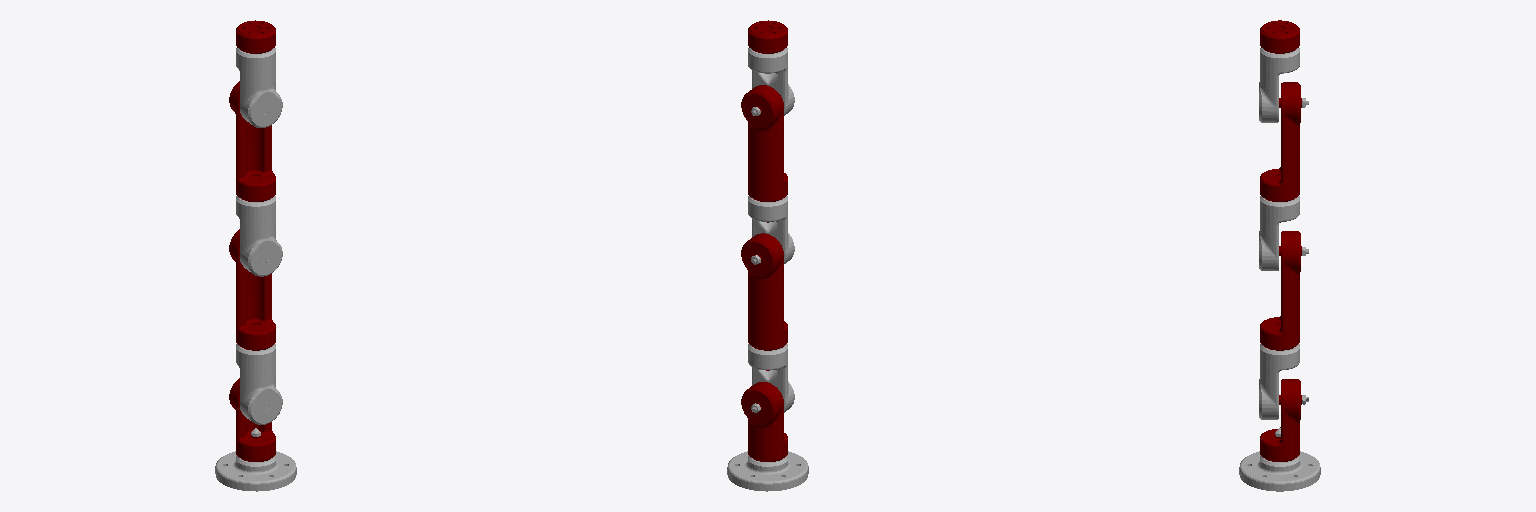
robot.urdf — ManipulatorUrdf:
<?xml version="1.0" encoding="utf-8"?>
<!-- This URDF was automatically created by SolidWorks to URDF Exporter! Originally created by [author] ([email redacted]) 
     Commit Version: 1.6.0-4-g7f85cfe  Build Version: 1.6.7995.38578
     For more information, please see http://wiki.ros.org/sw_urdf_exporter -->
<robot
  name="ManipulatorUrdf">
  <material name="maroon">
    <color rgba="0.5 0.0 0.0 1.0"/>
  </material>
  <material name="grey">
    <color rgba="0.7 0.7 0.7 1.0"/>
  </material>
  <link
    name="base_link">
    <inertial>
      <origin
        xyz="-1.22557526943779E-08 1.22018958084312E-08 0.0092810773127755"
        rpy="0 0 0" />
      <mass
        value="0.128593564789838" />
      <inertia
        ixx="7.45536846359304E-05"
        ixy="6.46650347197829E-13"
        ixz="-5.32544392988639E-12"
        iyy="7.45536877822406E-05"
        iyz="-6.57767819984515E-11"
        izz="0.000137966503510752" />
    </inertial>
    <visual>
      <origin
        xyz="0 0 0"
        rpy="0 0 0" />
      <geometry>
        <mesh
          filename="package://ManipulatorUrdf/meshes/base_link.STL" />
      </geometry>
      <material
        name="grey">
      </material>
    </visual>
    <collision>
      <origin
        xyz="0 0 0"
        rpy="0 0 0" />
      <geometry>
        <mesh
          filename="package://ManipulatorUrdf/meshes/base_link.STL" />
      </geometry>
    </collision>
  </link>
  <link
    name="link1">
    <inertial>
      <origin
        xyz="-1.85892788255806E-08 0.00775841135748858 -0.0323463053242845"
        rpy="0 0 0" />
      <mass
        value="0.123121051172828" />
      <inertia
        ixx="0.000126849219231024"
        ixy="-6.45135493896353E-12"
        ixz="5.33608551744657E-11"
        iyy="0.000131362281302474"
        iyz="-2.00145092206431E-05"
        izz="3.73736976606538E-05" />
    </inertial>
    <visual>
      <origin
        xyz="0 0 0"
        rpy="0 0 0" />
      <geometry>
        <mesh
          filename="package://ManipulatorUrdf/meshes/link1.STL" />
      </geometry>
      <material
        name="maroon">
      </material>
    </visual>
    <collision>
      <origin
        xyz="0 0 0"
        rpy="0 0 0" />
      <geometry>
        <mesh
          filename="package://ManipulatorUrdf/meshes/link1.STL" />
      </geometry>
    </collision>
  </link>
  <joint
    name="joint1"
    type="revolute">
    <origin
      xyz="0 0 0.10319"
      rpy="0 0 0" />
    <parent
      link="base_link" />
    <child
      link="link1" />
    <axis
      xyz="0 0 1" />
    <limit
      effort="100"
      velocity="100" />
  </joint>
  <link
    name="link2">
    <inertial>
      <origin
        xyz="-1.68476417454727E-08 0.0317343543085794 0.00745949851290703"
        rpy="0 0 0" />
      <mass
        value="0.125495294944391" />
      <inertia
        ixx="0.000128102613852571"
        ixy="-5.22874941598043E-11"
        ixz="2.33703270569435E-11"
        iyy="3.80907213341547E-05"
        iyz="1.996738147207E-05"
        izz="0.000131914555403081" />
    </inertial>
    <visual>
      <origin
        xyz="0 0 0"
        rpy="0 0 0" />
      <geometry>
        <mesh
          filename="package://ManipulatorUrdf/meshes/link2.STL" />
      </geometry>
      <material
        name="grey">
      </material>
    </visual>
    <collision>
      <origin
        xyz="0 0 0"
        rpy="0 0 0" />
      <geometry>
        <mesh
          filename="package://ManipulatorUrdf/meshes/link2.STL" />
      </geometry>
    </collision>
  </link>
  <joint
    name="joint2"
    type="revolute">
    <origin
      xyz="0 0 0"
      rpy="1.5708 0 0" />
    <parent
      link="link1" />
    <child
      link="link2" />
    <axis
      xyz="0 0 -1" />
    <limit
      effort="100"
      velocity="100" />
  </joint>
  <link
    name="link3">
    <inertial>
      <origin
        xyz="-1.23437792442106E-08 0.00885187226136737 -0.0593498418344666"
        rpy="0 0 0" />
      <mass
        value="0.162649767092968" />
      <inertia
        ixx="0.000384901372328097"
        ixy="4.07977785051178E-13"
        ixz="-6.61204349892496E-11"
        iyy="0.000394315089859218"
        iyz="-3.59136506465118E-05"
        izz="4.68839643301925E-05" />
    </inertial>
    <visual>
      <origin
        xyz="0 0 0"
        rpy="0 0 0" />
      <geometry>
        <mesh
          filename="package://ManipulatorUrdf/meshes/link3.STL" />
      </geometry>
      <material
        name="maroon">
      </material>
    </visual>
    <collision>
      <origin
        xyz="0 0 0"
        rpy="0 0 0" />
      <geometry>
        <mesh
          filename="package://ManipulatorUrdf/meshes/link3.STL" />
      </geometry>
    </collision>
  </link>
  <joint
    name="joint3"
    type="revolute">
    <origin
      xyz="0 0.20479 0"
      rpy="-1.5708 0 0" />
    <parent
      link="link2" />
    <child
      link="link3" />
    <axis
      xyz="0 0 1" />
    <limit
      effort="100"
      velocity="100" />
  </joint>
  <link
    name="link4">
    <inertial>
      <origin
        xyz="-2.23906566844437E-08 0.0317343152974587 0.00745949851290702"
        rpy="0 0 0" />
      <mass
        value="0.125495294944391" />
      <inertia
        ixx="0.000128102613982611"
        ixy="-5.19540681069413E-11"
        ixz="-4.06975266434054E-11"
        iyy="3.80907212041146E-05"
        iyz="1.99672577369089E-05"
        izz="0.00013191455540308" />
    </inertial>
    <visual>
      <origin
        xyz="0 0 0"
        rpy="0 0 0" />
      <geometry>
        <mesh
          filename="package://ManipulatorUrdf/meshes/link4.STL" />
      </geometry>
      <material
        name="grey">
      </material>
    </visual>
    <collision>
      <origin
        xyz="0 0 0"
        rpy="0 0 0" />
      <geometry>
        <mesh
          filename="package://ManipulatorUrdf/meshes/link4.STL" />
      </geometry>
    </collision>
  </link>
  <joint
    name="joint4"
    type="revolute">
    <origin
      xyz="0 0 0"
      rpy="1.5707963267949 0 0" />
    <parent
      link="link3" />
    <child
      link="link4" />
    <axis
      xyz="0 0 -1" />
    <limit
      effort="100"
      velocity="100" />
  </joint>
  <link
    name="link5">
    <inertial>
      <origin
        xyz="-1.47136134657301E-09 0.00885185273884695 -0.059349841825483"
        rpy="0 0 0" />
      <mass
        value="0.162649767077565" />
      <inertia
        ixx="0.000384901369108547"
        ixy="5.87523367619801E-13"
        ixz="-3.11948432407316E-11"
        iyy="0.000394315093078619"
        iyz="-3.59137084063457E-05"
        izz="4.68839643301035E-05" />
    </inertial>
    <visual>
      <origin
        xyz="0 0 0"
        rpy="0 0 0" />
      <geometry>
        <mesh
          filename="package://ManipulatorUrdf/meshes/link5.STL" />
      </geometry>
      <material
        name="maroon">
      </material>
    </visual>
    <collision>
      <origin
        xyz="0 0 0"
        rpy="0 0 0" />
      <geometry>
        <mesh
          filename="package://ManipulatorUrdf/meshes/link5.STL" />
      </geometry>
    </collision>
  </link>
  <joint
    name="joint5"
    type="revolute">
    <origin
      xyz="0 0.2047875 0"
      rpy="-1.5707963267949 0 0" />
    <parent
      link="link4" />
    <child
      link="link5" />
    <axis
      xyz="0 0 1" />
    <limit
      effort="100"
      velocity="100" />
  </joint>
  <link
    name="link6">
    <inertial>
      <origin
        xyz="8.84933874689691E-10 0.0317343149617446 0.00745949851290702"
        rpy="0 0 0" />
      <mass
        value="0.125495294944391" />
      <inertia
        ixx="0.000128102615380365"
        ixy="-5.46457686054436E-11"
        ixz="2.70800504357616E-11"
        iyy="3.80907198063605E-05"
        iyz="1.99672602664282E-05"
        izz="0.000131914555403081" />
    </inertial>
    <visual>
      <origin
        xyz="0 0 0"
        rpy="0 0 0" />
      <geometry>
        <mesh
          filename="package://ManipulatorUrdf/meshes/link6.STL" />
      </geometry>
      <material
        name="grey">
      </material>
    </visual>
    <collision>
      <origin
        xyz="0 0 0"
        rpy="0 0 0" />
      <geometry>
        <mesh
          filename="package://ManipulatorUrdf/meshes/link6.STL" />
      </geometry>
    </collision>
  </link>
  <joint
    name="joint6"
    type="revolute">
    <origin
      xyz="0 0 0"
      rpy="1.5707963267949 0 0" />
    <parent
      link="link5" />
    <child
      link="link6" />
    <axis
      xyz="0 0 -1" />
    <limit
      effort="100"
      velocity="100" />
  </joint>
  <link
    name="link7">
    <inertial>
      <origin
        xyz="5.87774322886357E-08 5.34790418483191E-09 -0.0133863430450704"
        rpy="0 0 0" />
      <mass
        value="0.0477760977622199" />
      <inertia
        ixx="1.03742535103201E-05"
        ixy="-1.05535573516503E-12"
        ixz="6.27195878369039E-11"
        iyy="1.03742502286753E-05"
        iyz="-3.28525526936077E-11"
        izz="1.48894457745127E-05" />
    </inertial>
    <visual>
      <origin
        xyz="0 0 0"
        rpy="0 0 0" />
      <geometry>
        <mesh
          filename="package://ManipulatorUrdf/meshes/link7.STL" />
      </geometry>
      <material
        name="maroon">
      </material>
    </visual>
    <collision>
      <origin
        xyz="0 0 0"
        rpy="0 0 0" />
      <geometry>
        <mesh
          filename="package://ManipulatorUrdf/meshes/link7.STL" />
      </geometry>
    </collision>
  </link>
  <joint
    name="joint7"
    type="revolute">
    <origin
      xyz="0 0.1031875 0"
      rpy="-1.5707963267949 0 0" />
    <parent
      link="link6" />
    <child
      link="link7" />
    <axis
      xyz="0 0 1" />
    <limit
      effort="100"
      velocity="100" />
  </joint>
</robot>

--- Render facts (derived) ---
3 views of the same robot in one strip: view 1: azimuth 30°, elevation 25°; view 2: azimuth 150°, elevation 25°; view 3: azimuth 270°, elevation 25° (orthographic).
Robot: ManipulatorUrdf — 8 links, 7 joints (7 revolute); root link base_link; default pose: every joint at zero.
Links seen in each view (by area): view 1: link5, link3, link4, link2, link6, base_link, link1, link7; view 2: link5, link3, link1, base_link, link4, link6, link2, link7; view 3: link5, link3, base_link, link1, link2, link6, link4, link7.
Link boxes in pixels (<box>): link5: <box>229,81,275,201</box>; link3: <box>229,229,275,350</box>; link4: <box>236,196,282,276</box>; link2: <box>236,344,282,424</box>; link6: <box>236,48,282,127</box>; base_link: <box>215,428,296,491</box>; link1: <box>229,378,275,461</box>; link7: <box>236,20,275,53</box>; link5: <box>741,85,787,222</box>; link3: <box>741,233,787,370</box>; link1: <box>741,382,787,461</box>; base_link: <box>727,451,808,491</box>; link4: <box>748,196,794,264</box>; link6: <box>748,48,794,115</box>; link2: <box>748,344,794,412</box>; link7: <box>748,20,787,53</box>; link5: <box>1260,82,1301,222</box>; link3: <box>1260,231,1301,350</box>; base_link: <box>1239,428,1320,491</box>; link1: <box>1260,379,1301,461</box>; link2: <box>1259,344,1308,419</box>; link6: <box>1259,48,1308,122</box>; link4: <box>1259,196,1308,270</box>; link7: <box>1260,20,1299,53</box>.
Bounding box of the posed robot: 0.1014 × 0.1016 × 0.616 m (x, y, z).
8 mesh visuals loaded from 8 distinct referenced files (8 binary STL).